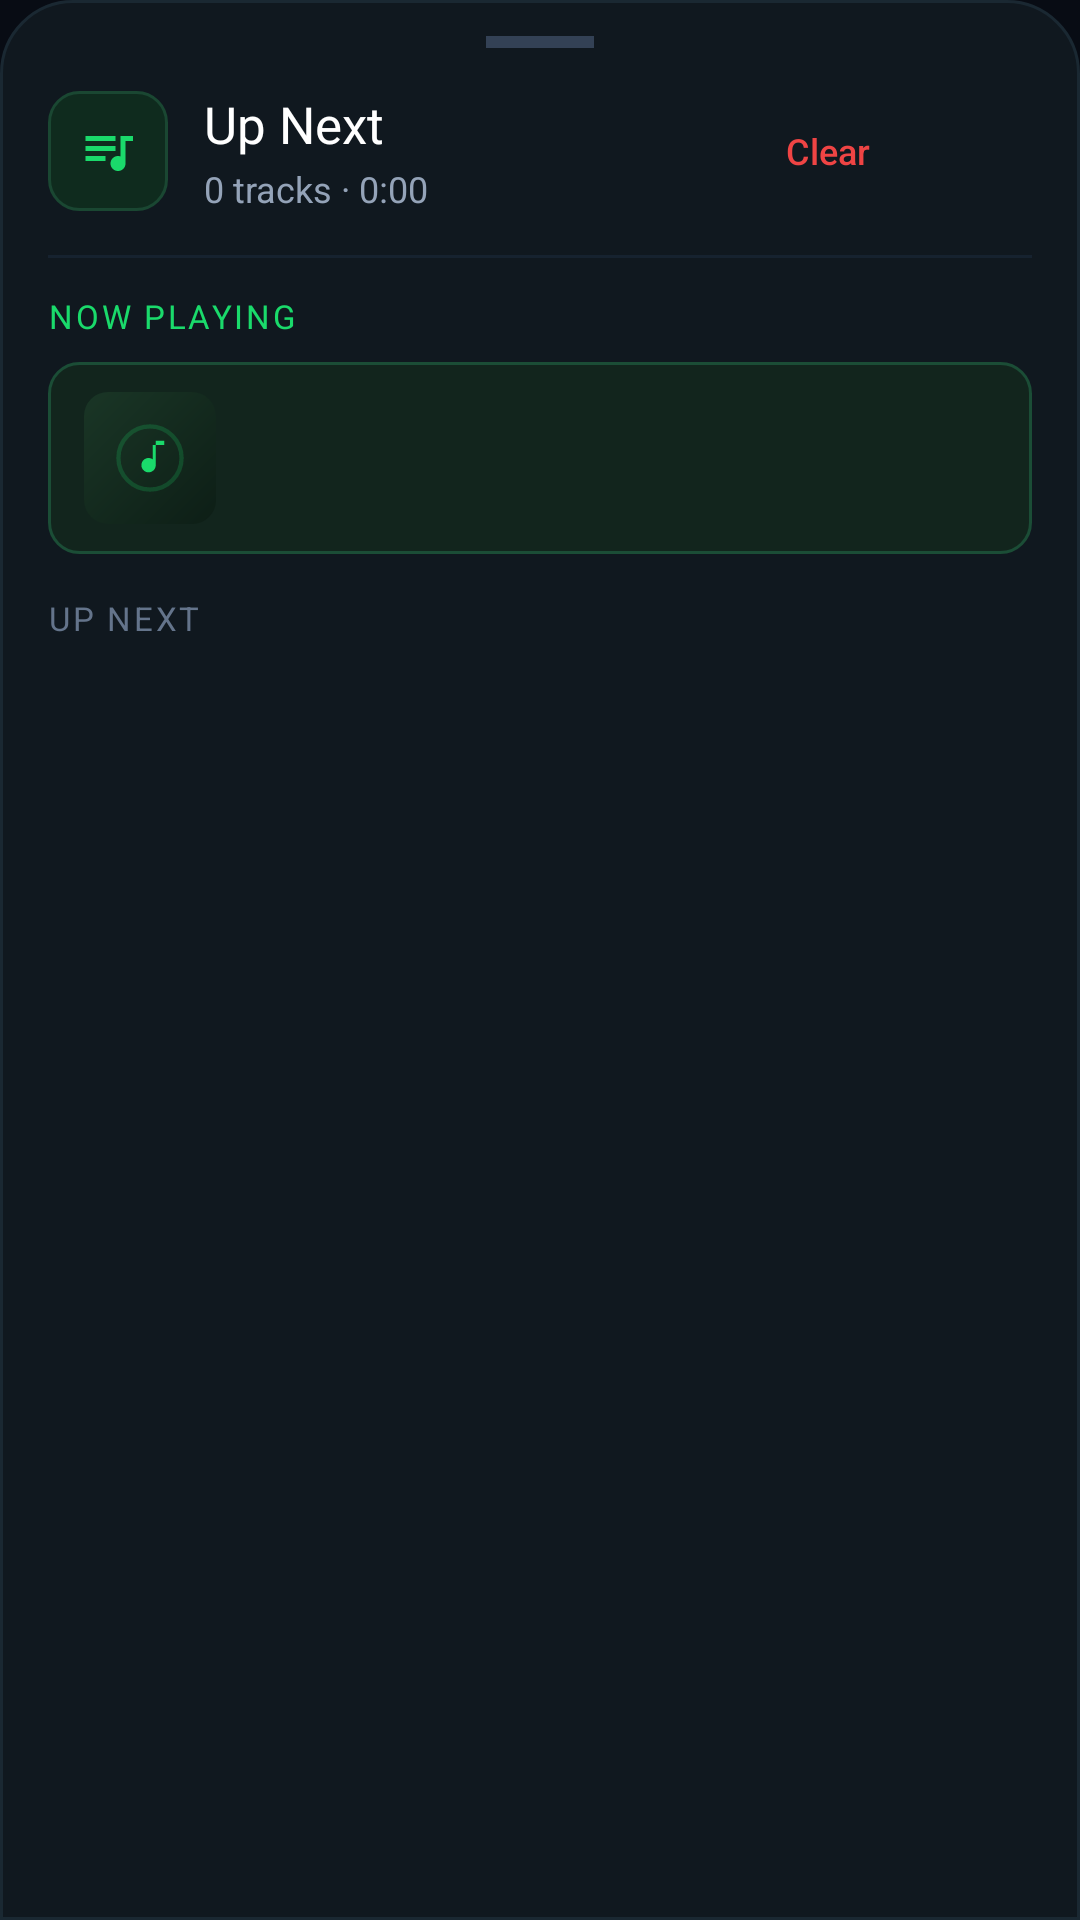

Point at icon controls on the screen. Image size 1080x1920, points as point (x, y).
queue music: point (109, 153)
